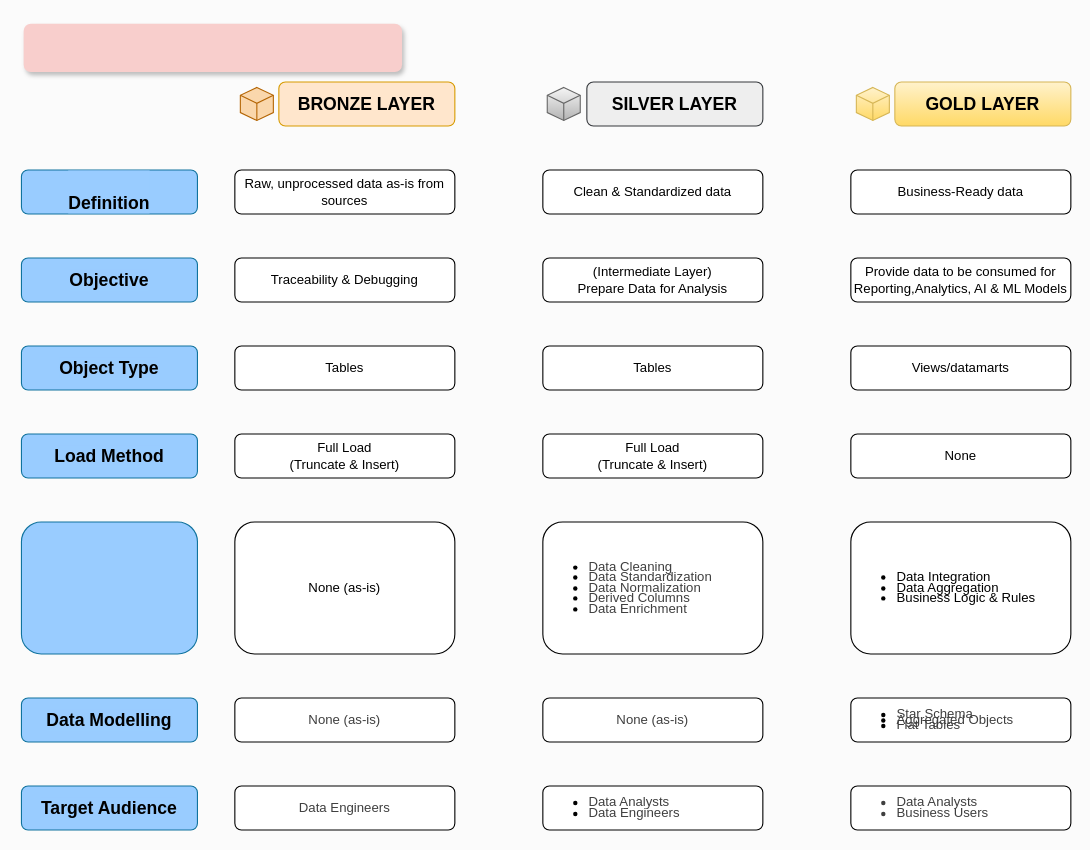
Image size: 1090x850. Some labels were removed from this diagram. The shapes that lost their labels are listed below. From the top down, each one's centre as x and y in pixels, then its label:
At point 213,49: "Data Layer".
At point 108,587: "Data Transformation".
